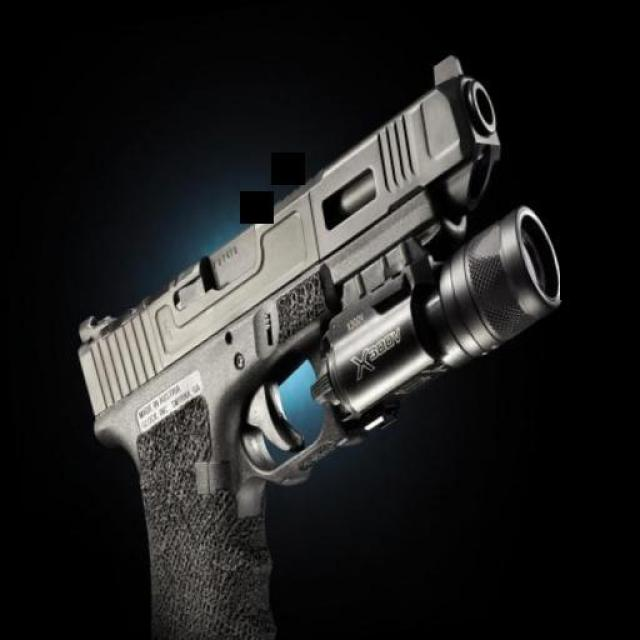gun: (32, 41, 602, 640)
